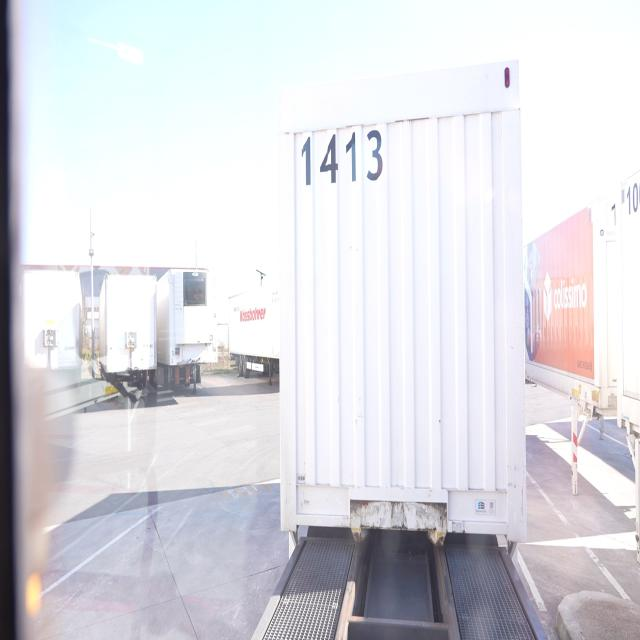Code: (296, 126, 390, 190)
